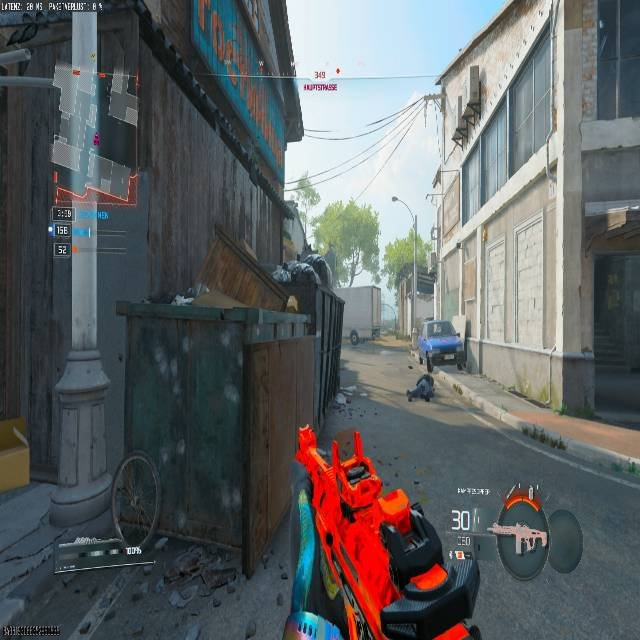player: (349, 328, 359, 345)
